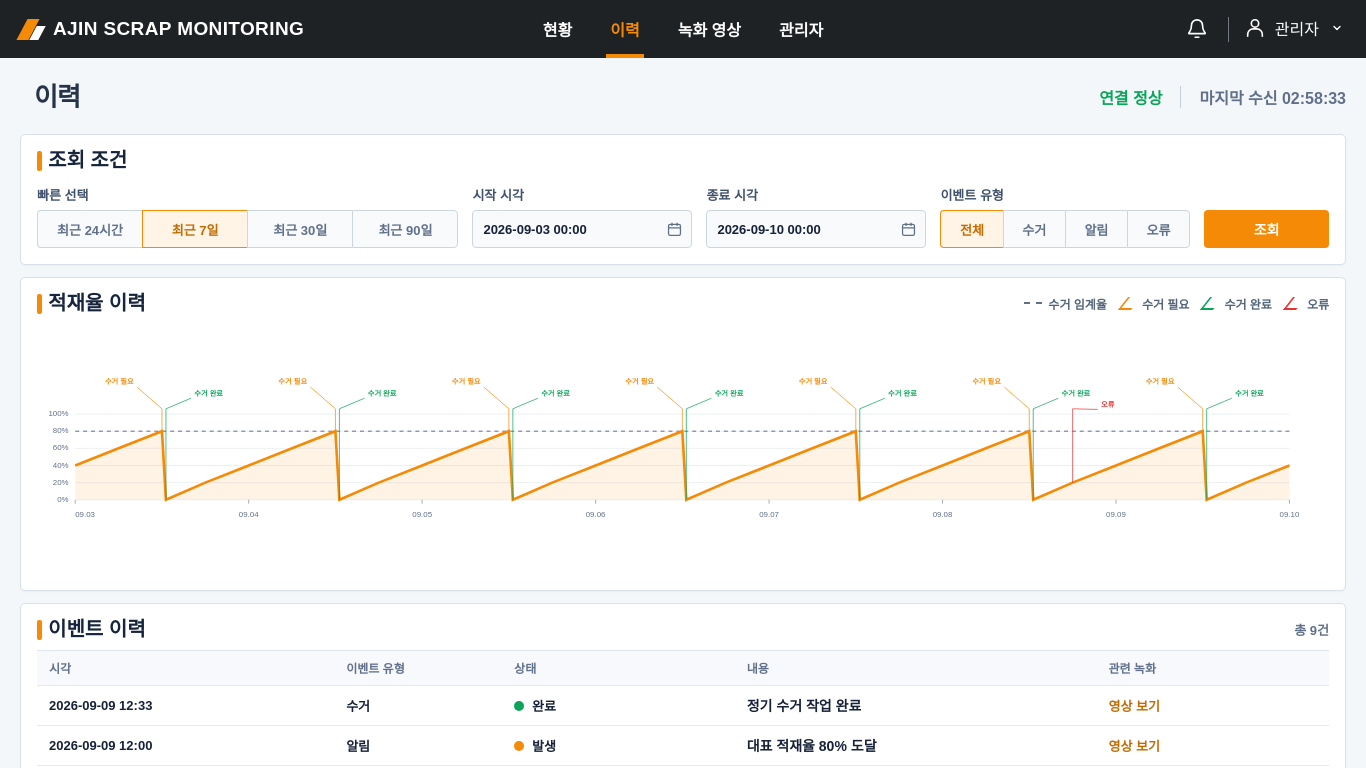
이력 조회는 기간과 유형을 함께 적용하고 범례와 빈 결과를 갱신한다
Click the button "최근 24시간" at (90, 229), box [37, 210, 142, 248]
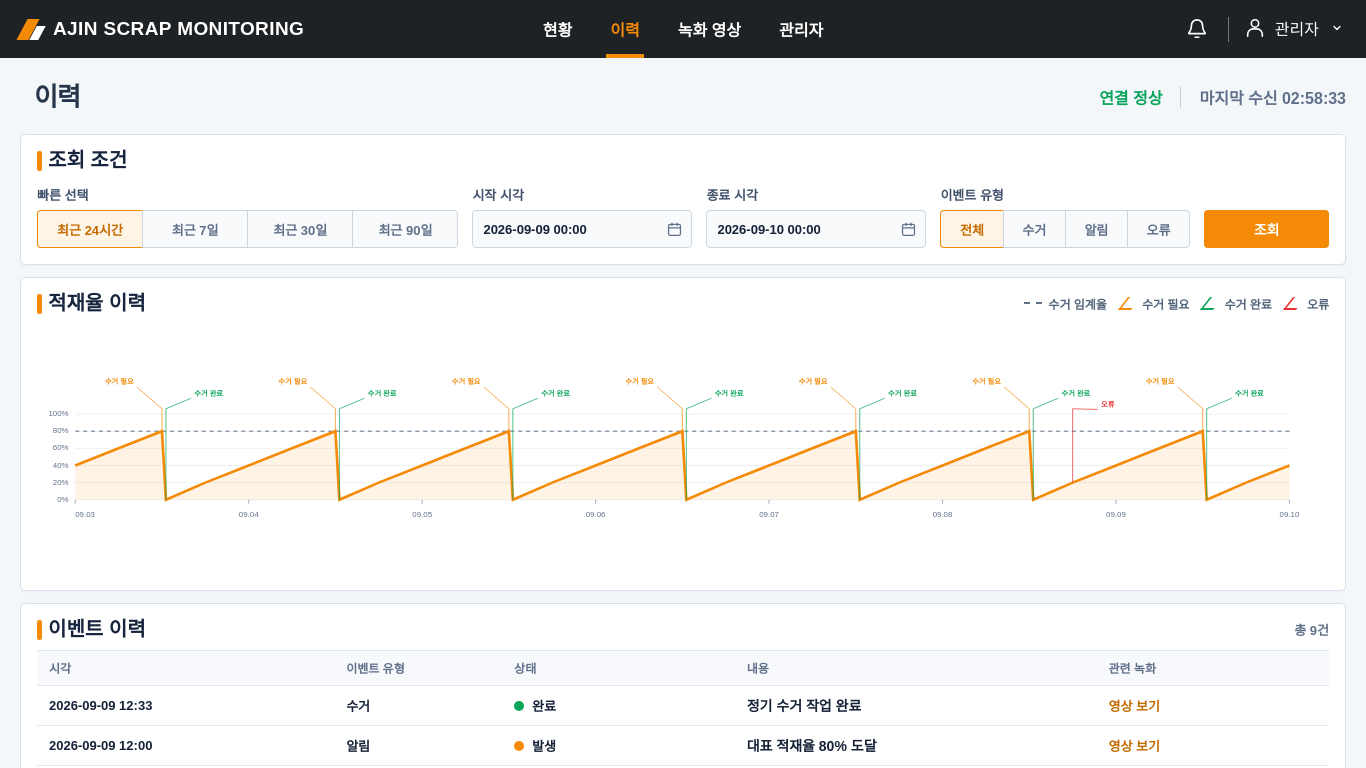
Click the button "수거" at (1034, 229), box [1003, 210, 1065, 248]
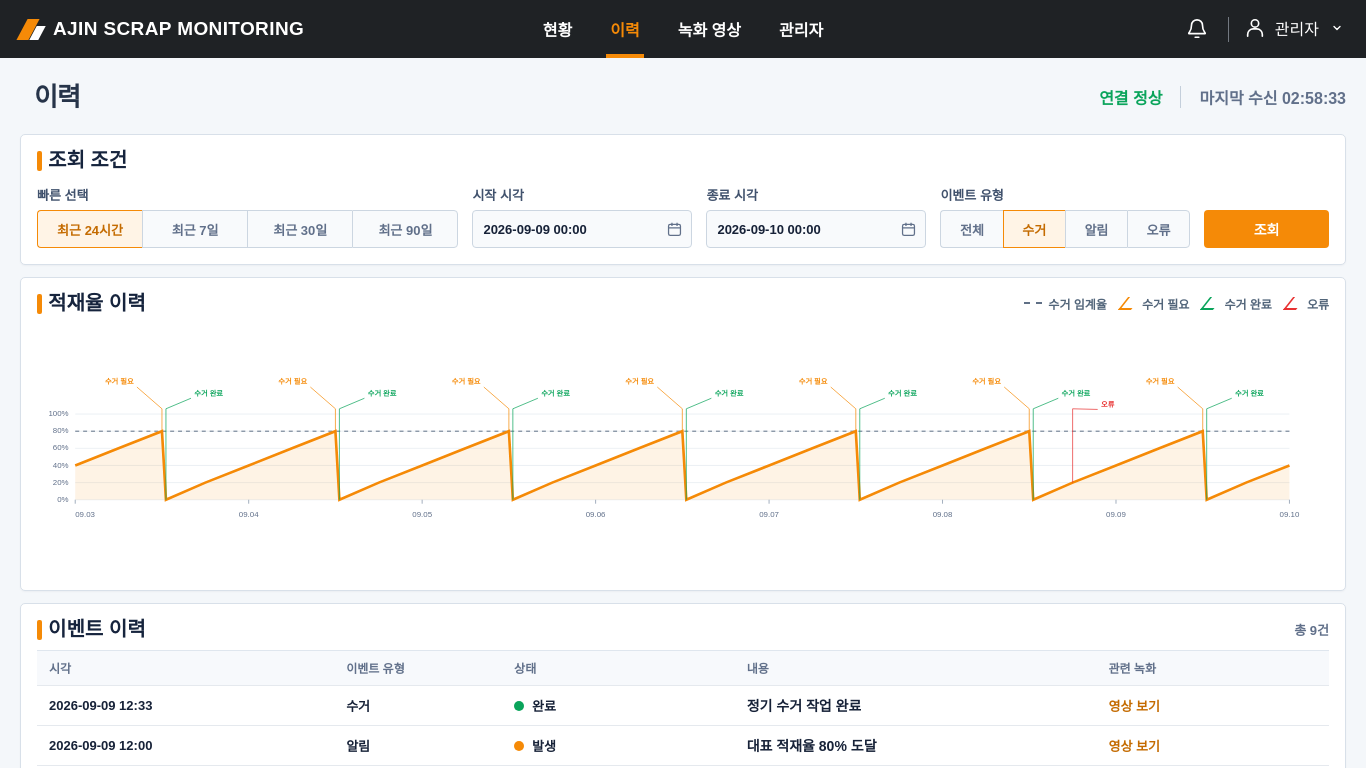
Check: the text "총 9건" is shown, box [1294, 620, 1329, 638]
Check: the text "오류" is shown, box [1288, 294, 1329, 312]
Click the button "조회" at (1267, 229), box [1204, 210, 1329, 248]
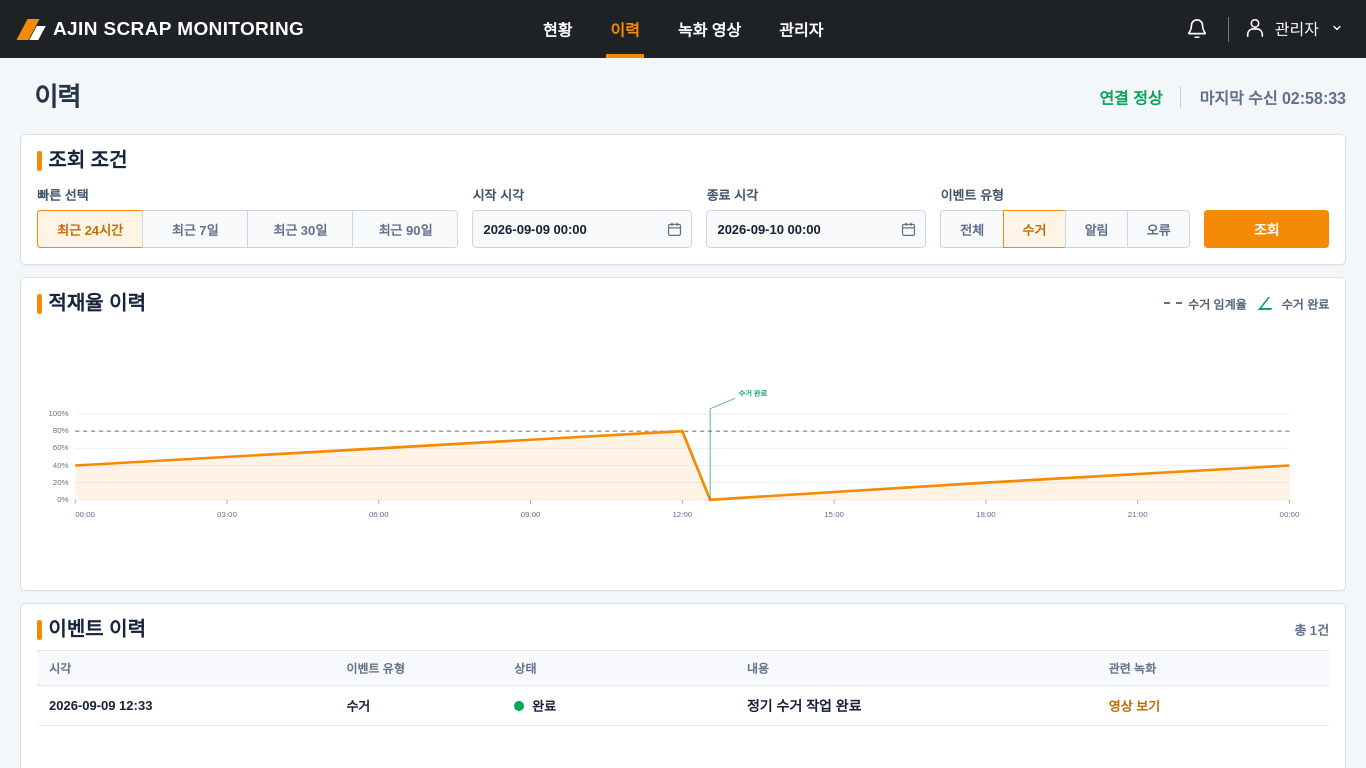
Check: the text "수거 완료" is shown, box [1262, 294, 1329, 312]
Check: the text "총 1건" is shown, box [1294, 620, 1329, 638]
Check: the text "수거 필요" is gone
Replace the text in the field labelled "시작 시각" with "2026-09-11T00:00" at (582, 229), box [472, 210, 692, 248]
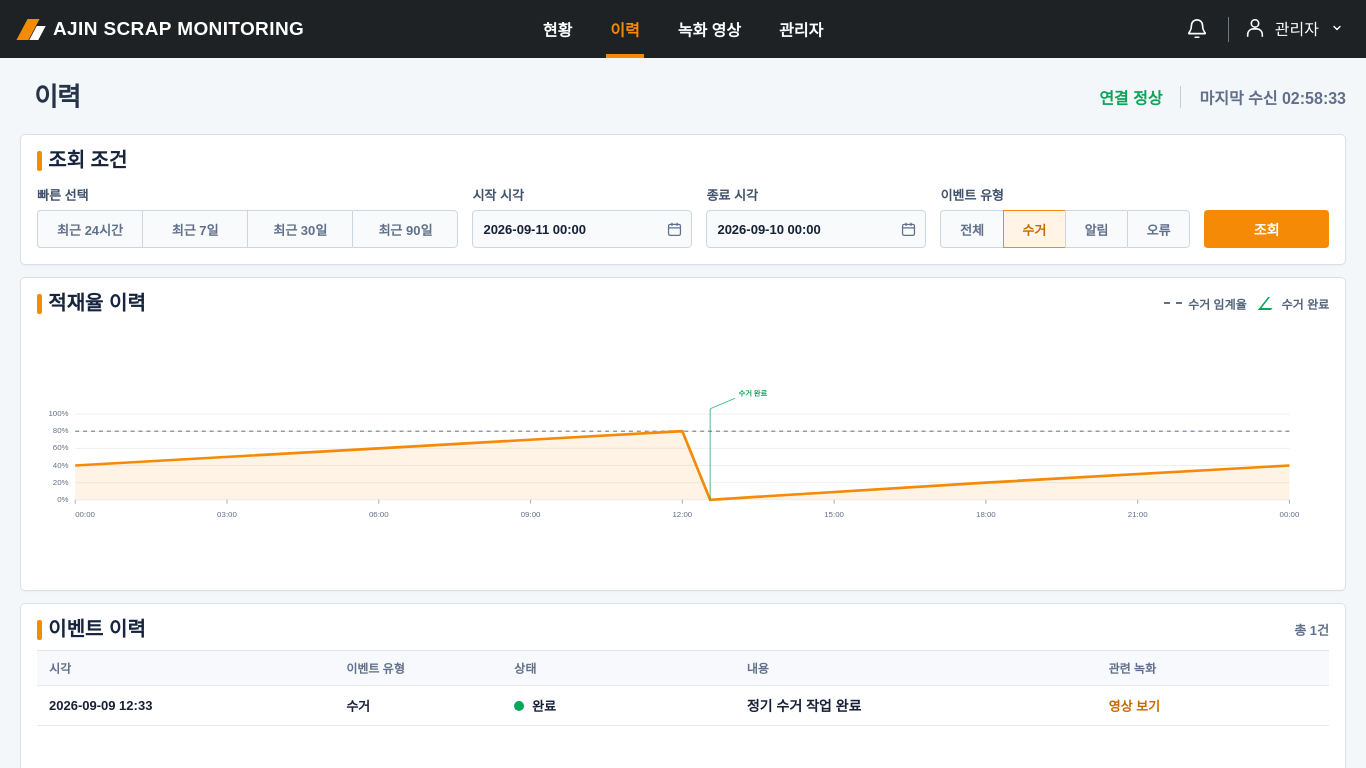
Click the button "조회" at (1267, 229), box [1204, 210, 1329, 248]
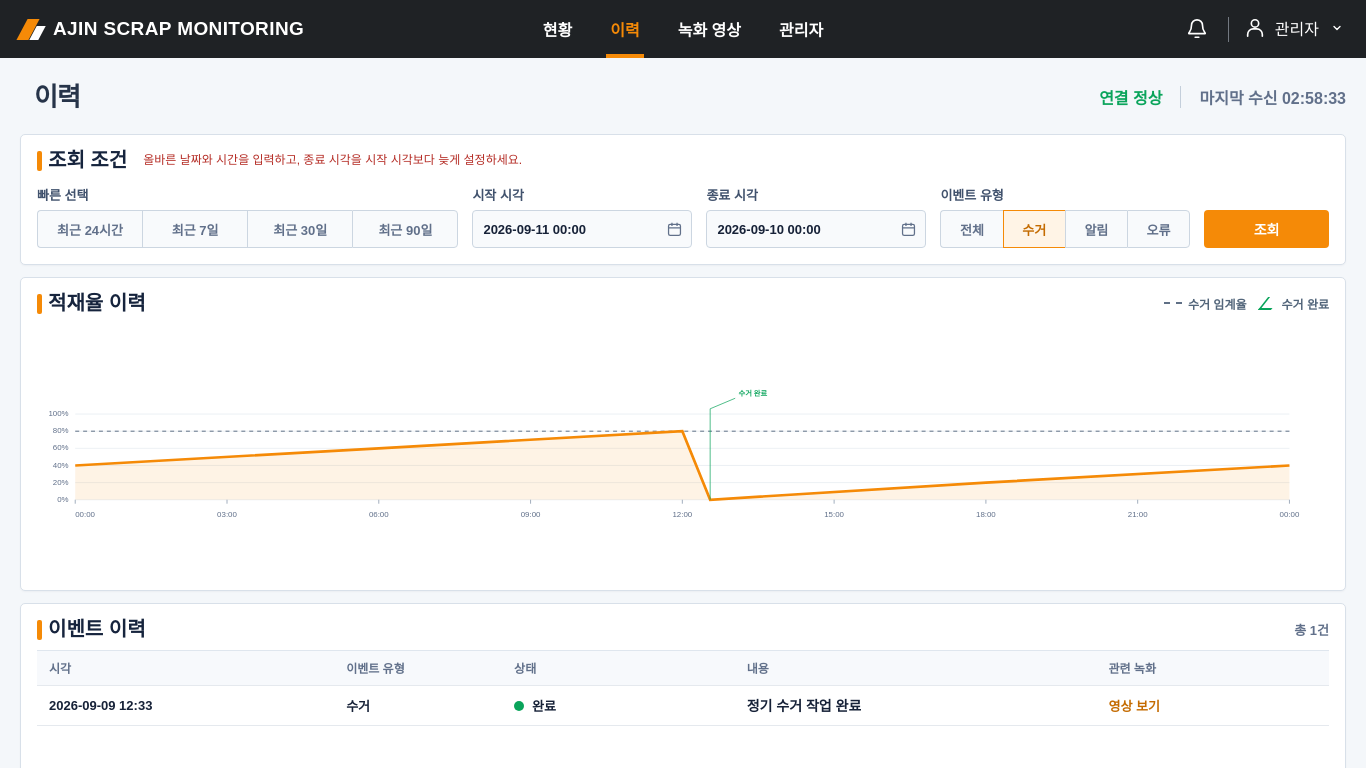
Check: the text "총 1건" is shown, box [1294, 620, 1329, 638]
Check: the message "올바른 날짜와 시간을 입력하고, 종료 시각을 시작 시각보다 늦게 설정하세요." is shown, box [143, 150, 522, 170]
Replace the text in the field labelled "종료 시각" with "2026-09-12T00:00" at (816, 229), box [706, 210, 926, 248]
Click the button "조회" at (1267, 229), box [1204, 210, 1329, 248]
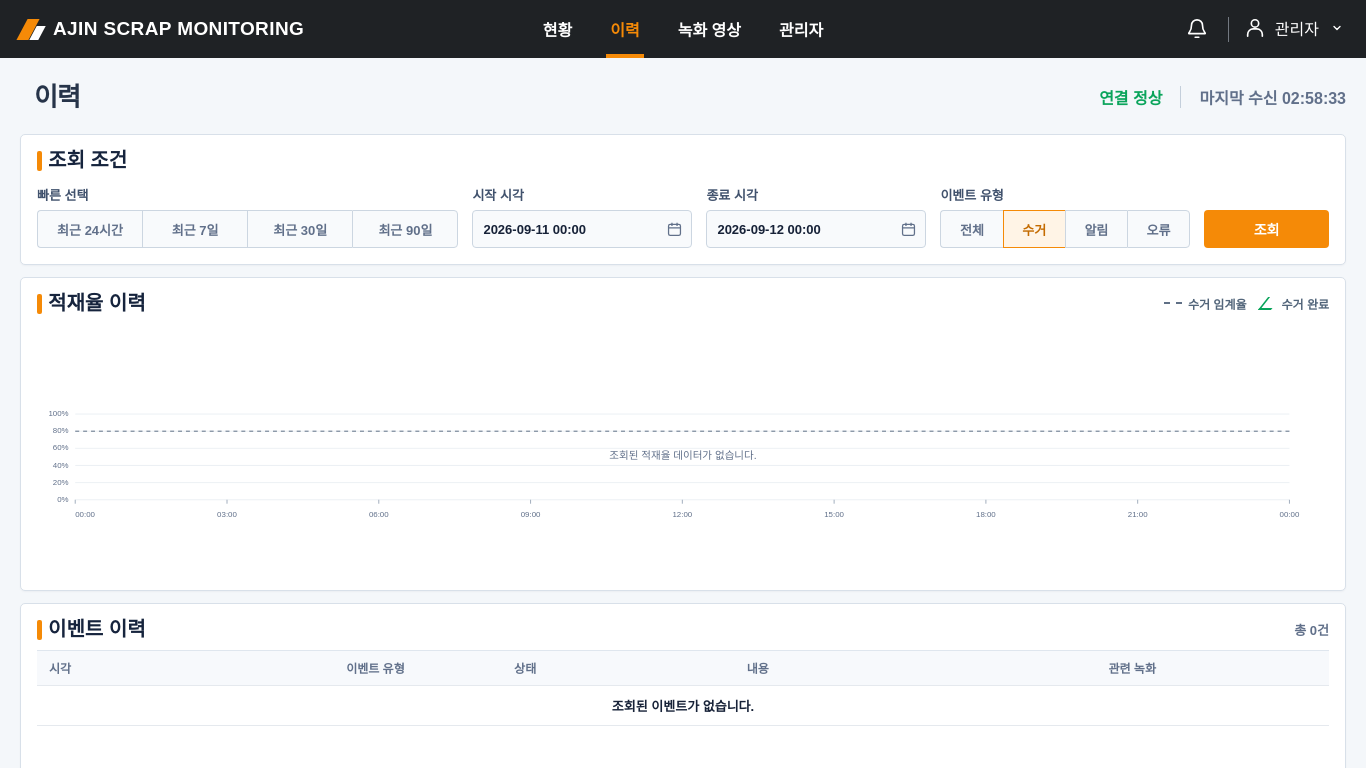
Check: the text "조회된 적재율 데이터가 없습니다." is shown, box [609, 449, 757, 461]
Check: the text "조회된 이벤트가 없습니다." is shown, box [37, 685, 1329, 725]
